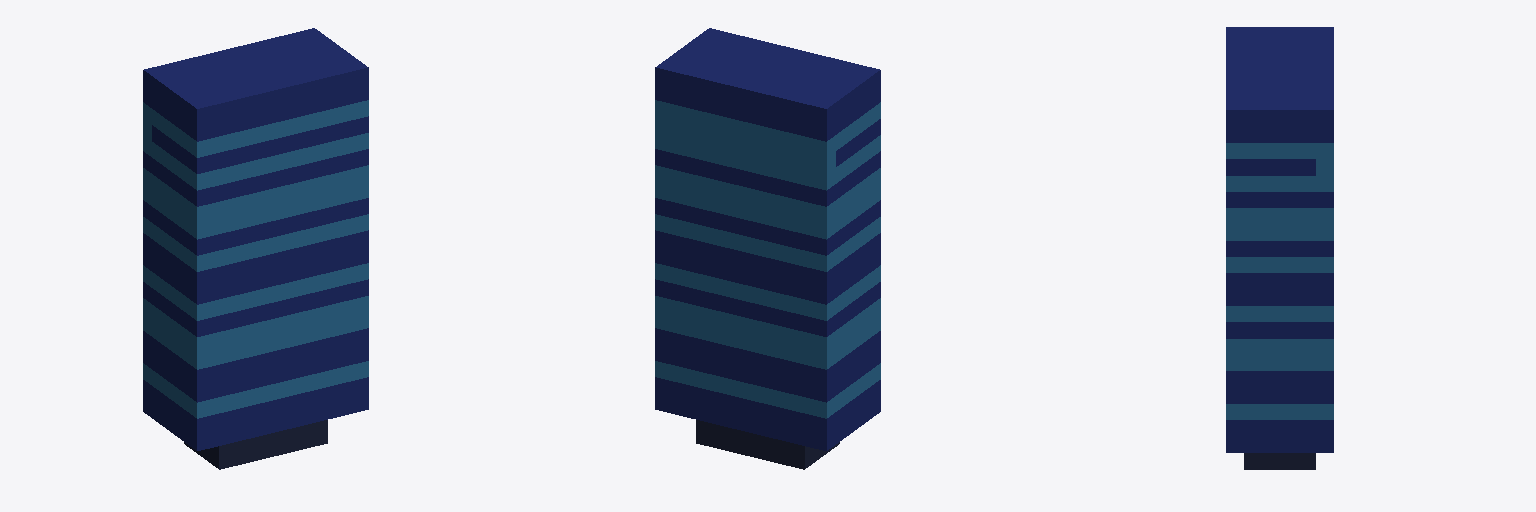
3 renders of one model, left to right at view 1: azimuth 30°, elevation 25°; view 2: azimuth 150°, elevation 25°; view 3: azimuth 270°, elevation 25°, orthographic.
Visible parts, largest first — view 1: object 1; view 2: object 1; view 3: object 1.
Part boxes in pixels (left/top/right/bottom): object 1: left=143, top=28, right=368, bottom=469; object 1: left=655, top=28, right=880, bottom=469; object 1: left=1226, top=27, right=1333, bottom=469.
Bounding box in the file's own units: 1.1 × 2.3 × 0.6.
Materials: 1 (1 with a texture image).